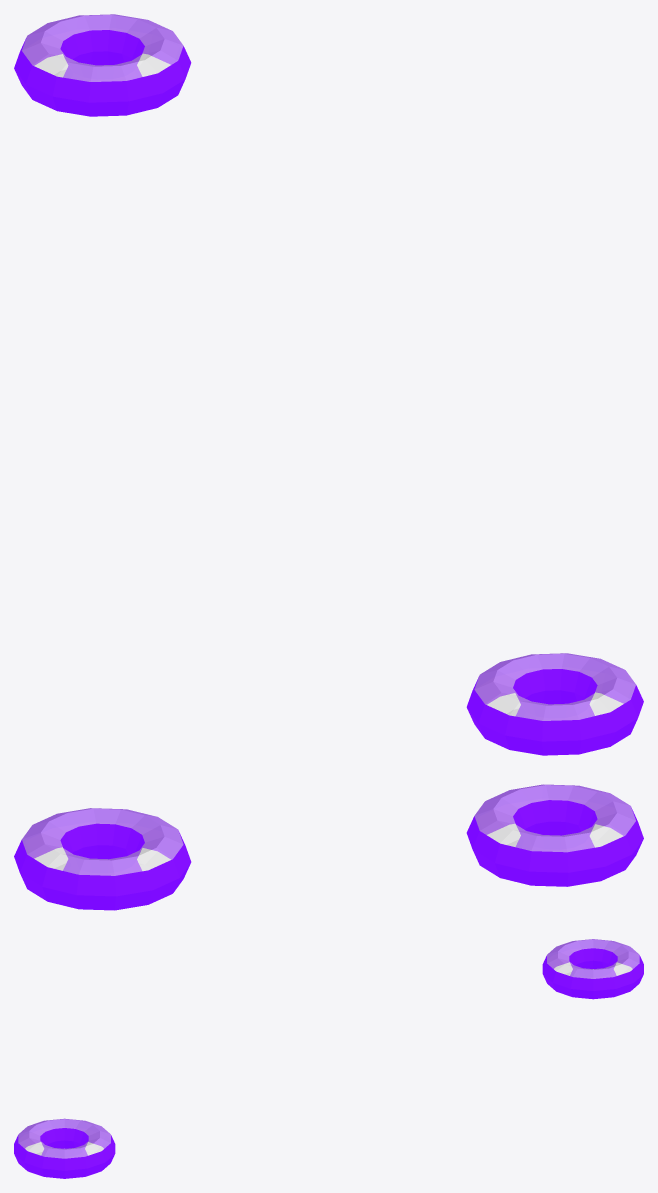
File: (6)M GJump.fbx
3 views of the same model, one above another, from view 1: azimuth 30°, elevation 25°; view 2: azimuth 150°, elevation 25°; view 3: azimuth 270°, elevation 25° (orthographic). The views are drawn at different scales.
Parts seen in each view (by area): view 1: AirJump.002, AirJump.003; view 2: AirJump.002, AirJump.003; view 3: AirJump.002, AirJump.003.
Part boxes in pixels (x1,y1,x2,y2): AirJump.002: (466,653,643,755); AirJump.003: (14,14,191,116); AirJump.002: (466,784,643,886); AirJump.003: (14,808,191,910); AirJump.002: (14,1118,115,1178); AirJump.003: (542,939,643,999).
Bounding box in the file's own units: 157 × 348 × 953.
